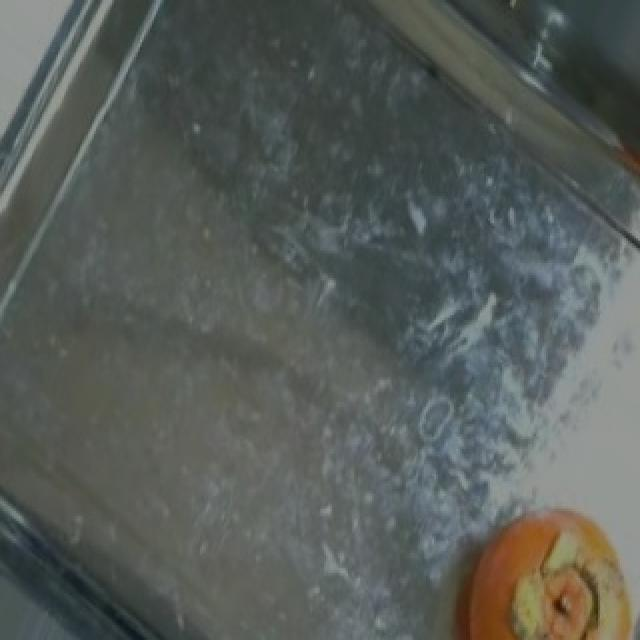Fruit: (422, 486, 634, 640)
